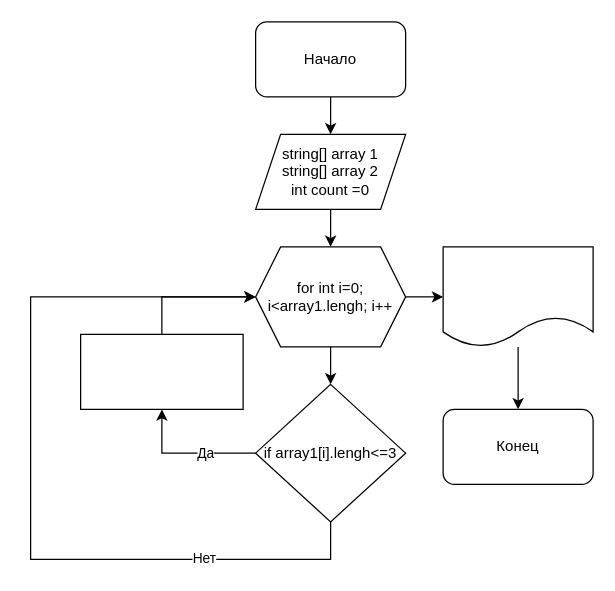
The diagram is 615 pixels wide and 591 high, and some of its shapes have lost their labels. Each missing label, with the centre of its shape:
array2[count]=array1[i] count++: point 161,371
Вывод array2: point 517,296
